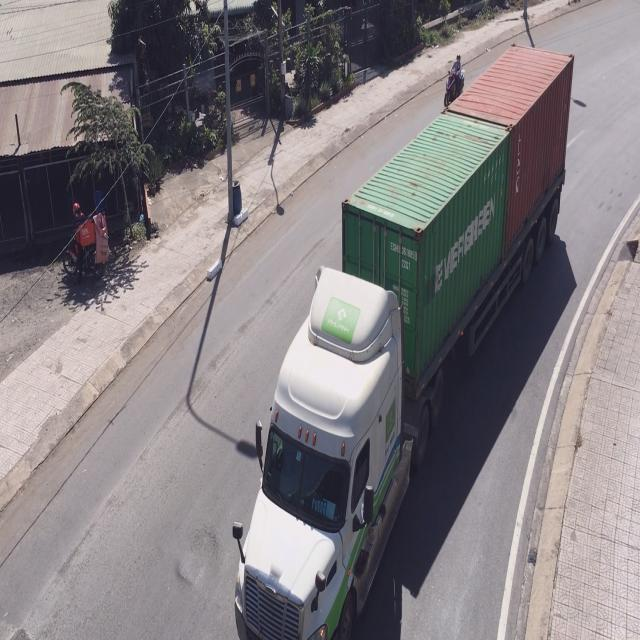motorbike: (444, 53, 464, 106)
truck: (235, 42, 572, 640)
